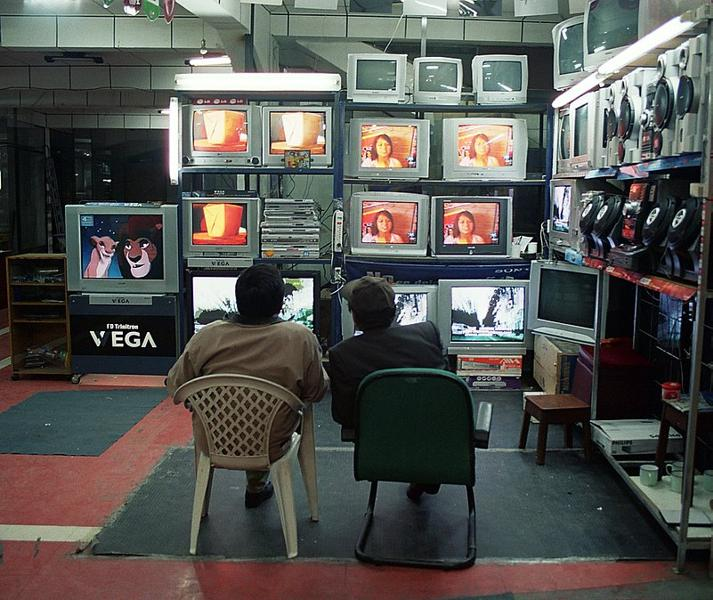person: (167, 263, 328, 515)
